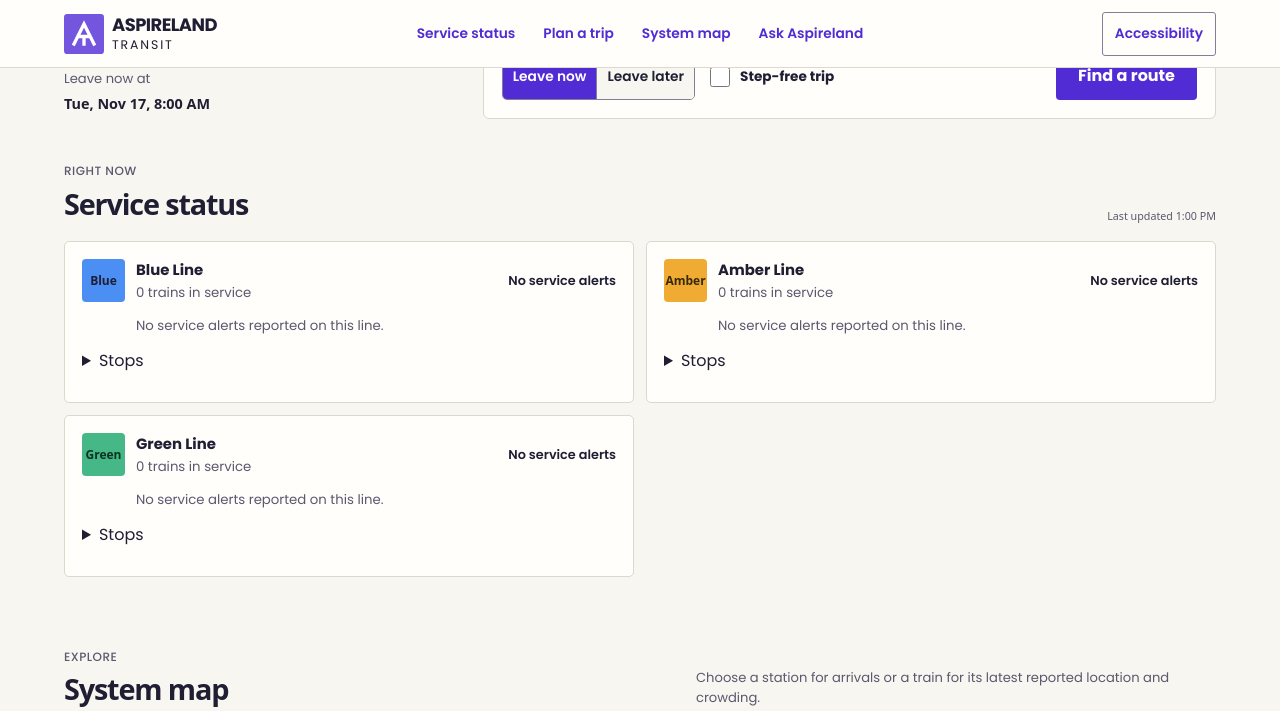
Test: shows running time from the previous stop without presenting it as a wait
(page scrolled)
Click the 1st heading "Stops".
click(121, 360)  # box [99, 349, 144, 372]
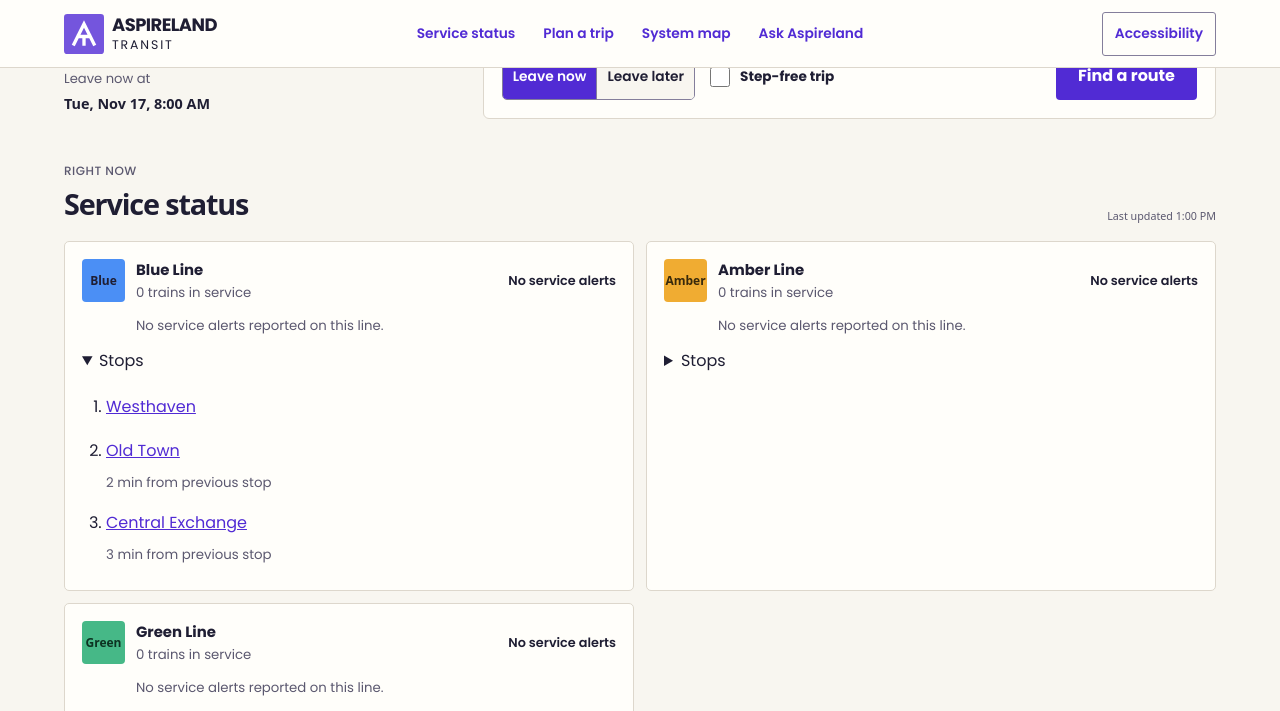
Check: the list item "Westhaven" is shown, box [106, 395, 196, 418]
Check: the list item "Old Town 2 min from previous stop" is shown, box [106, 439, 271, 492]
Check: the list item "Central Exchange 3 min from previous stop" is shown, box [106, 511, 272, 564]
